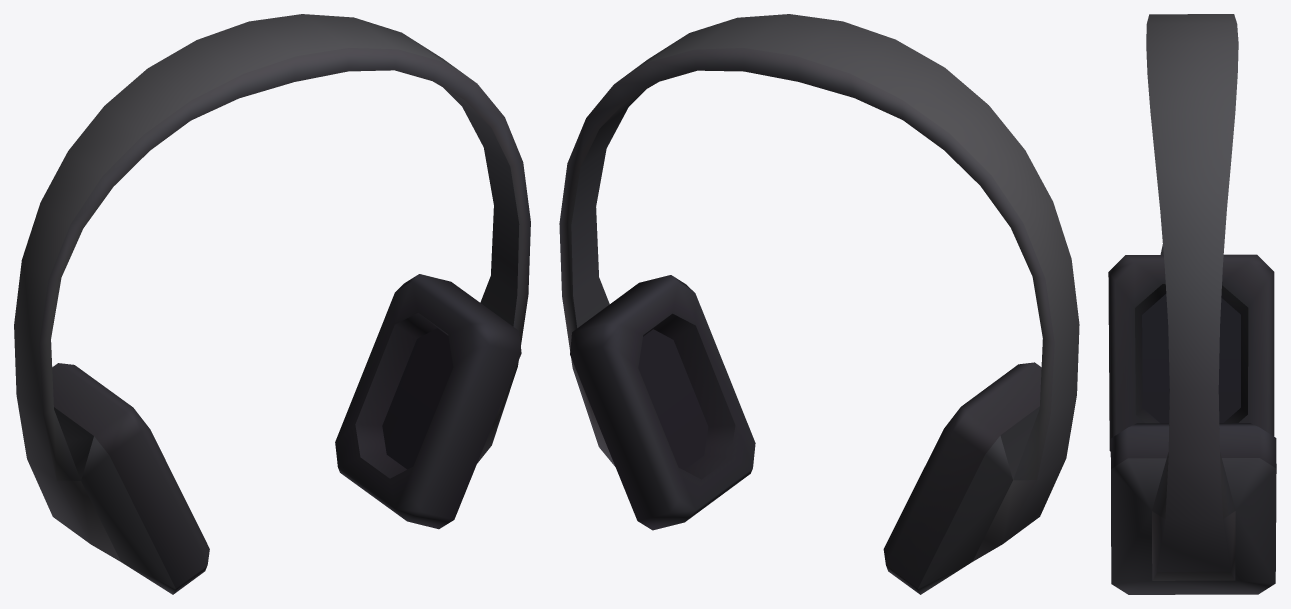
The model's file is headphones.glb.
3 views of the same model, side by side, from view 1: azimuth 30°, elevation 25°; view 2: azimuth 150°, elevation 25°; view 3: azimuth 270°, elevation 25° (orthographic). The views are drawn at different scales.
Parts seen in each view (by area): view 1: headphones3; view 2: headphones3; view 3: headphones3.
Boxes of the visible parts, x1,y1,x2,y2 form: headphones3: (14, 14, 530, 594); headphones3: (559, 14, 1079, 594); headphones3: (1108, 14, 1276, 594).
Bounding box in the file's own units: 0.2 × 0.1933 × 0.0604.
Materials: 1 (1 with a texture image).
